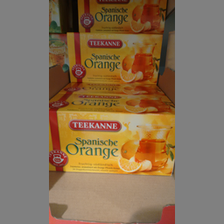tea: (49, 93, 174, 176), (66, 31, 163, 84), (77, 1, 166, 33)
